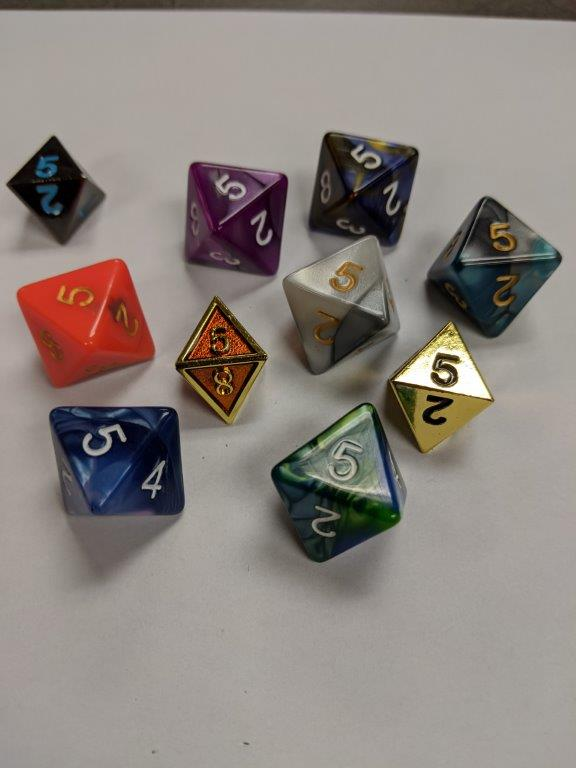d8-5: (273, 401, 408, 565), (424, 195, 564, 343), (281, 231, 401, 375), (19, 263, 158, 386), (48, 405, 190, 515), (388, 317, 492, 452), (303, 128, 422, 245), (177, 296, 270, 422), (186, 162, 290, 273), (5, 135, 106, 245)
